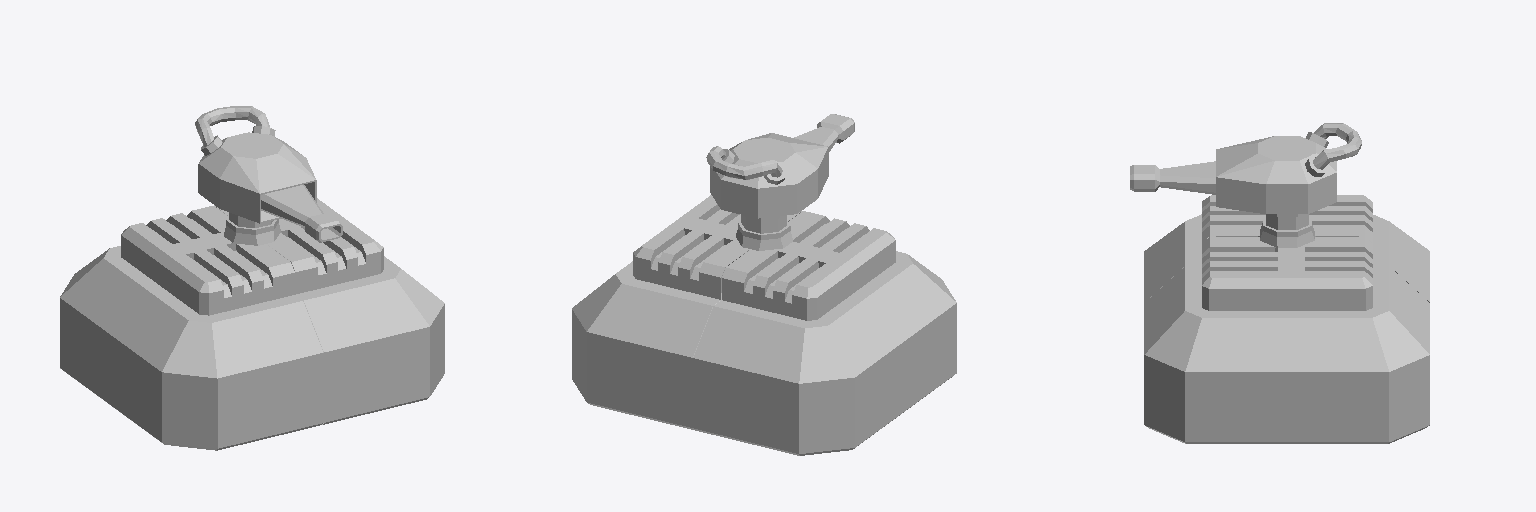
File: tank.obj
The picture shows the model from 3 angles: view 1: azimuth 30°, elevation 25°; view 2: azimuth 150°, elevation 25°; view 3: azimuth 270°, elevation 25°; orthographic projection.
Visible parts, largest first — view 1: Base_tank_z_bazaosnovaMesh.001, Turret_Object005Mesh.001, Barrel_Object006Mesh.001; view 2: Base_tank_z_bazaosnovaMesh.001, Turret_Object005Mesh.001, Barrel_Object006Mesh.001; view 3: Base_tank_z_bazaosnovaMesh.001, Turret_Object005Mesh.001, Barrel_Object006Mesh.001.
Boxes of the visible parts, x1=… form: Base_tank_z_bazaosnovaMesh.001: x1=60, y1=198, x2=444, y2=450; Turret_Object005Mesh.001: x1=195, y1=106, x2=316, y2=259; Barrel_Object006Mesh.001: x1=261, y1=185, x2=342, y2=242; Base_tank_z_bazaosnovaMesh.001: x1=572, y1=195, x2=956, y2=455; Turret_Object005Mesh.001: x1=706, y1=133, x2=828, y2=265; Barrel_Object006Mesh.001: x1=794, y1=114, x2=854, y2=151; Base_tank_z_bazaosnovaMesh.001: x1=1144, y1=195, x2=1429, y2=443; Turret_Object005Mesh.001: x1=1216, y1=123, x2=1361, y2=251; Barrel_Object006Mesh.001: x1=1130, y1=161, x2=1215, y2=194.
Size of the model in its own units: 51.29 by 41.86 by 47.08.